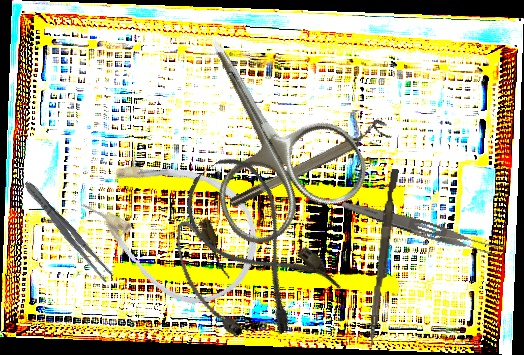Cannula: (63, 125, 281, 326), (170, 146, 344, 338), (167, 212, 251, 347)
Dressing Forceps: (19, 177, 117, 285), (338, 197, 502, 261)
Fixation Ring: (224, 116, 393, 211)
Iris Scissors: (150, 4, 377, 255)
Pusher: (368, 168, 399, 348)
